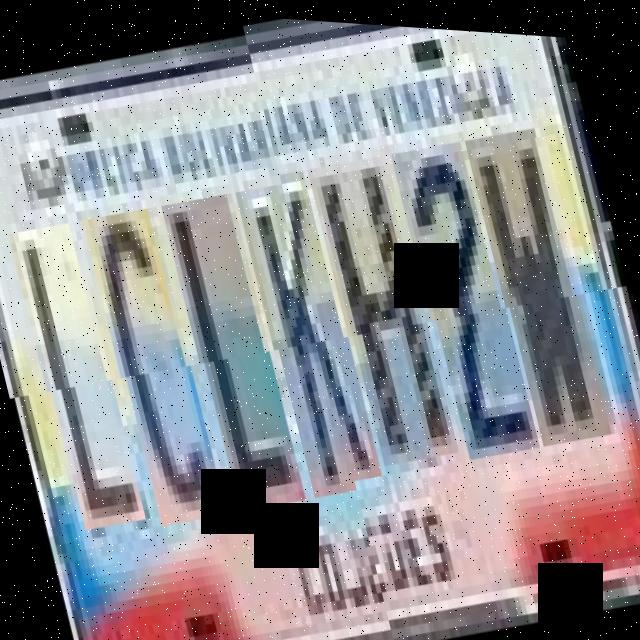2: (397, 139, 542, 466)
C: (87, 202, 227, 527)
H: (313, 154, 461, 473)
K: (240, 171, 384, 497)
L: (165, 186, 306, 512), (12, 218, 146, 532)
W: (471, 125, 616, 451)
